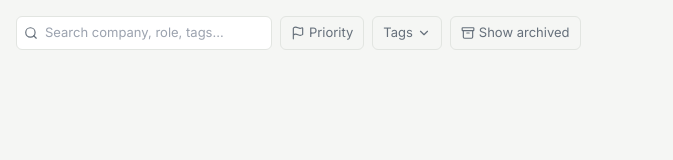
FilterBar › shows Clear all only when a filter is active, and clears everything
Expected: the text "Clear all" is not shown
Click the button "Priority": (322, 33) [280,16,364,50]
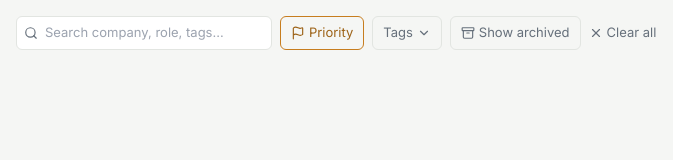
Now the button "Clear all" is shown
Click the button "Clear all": (622, 33) [588,23,656,42]
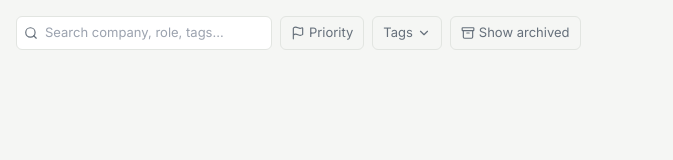
Now the button "Clear all" is gone
